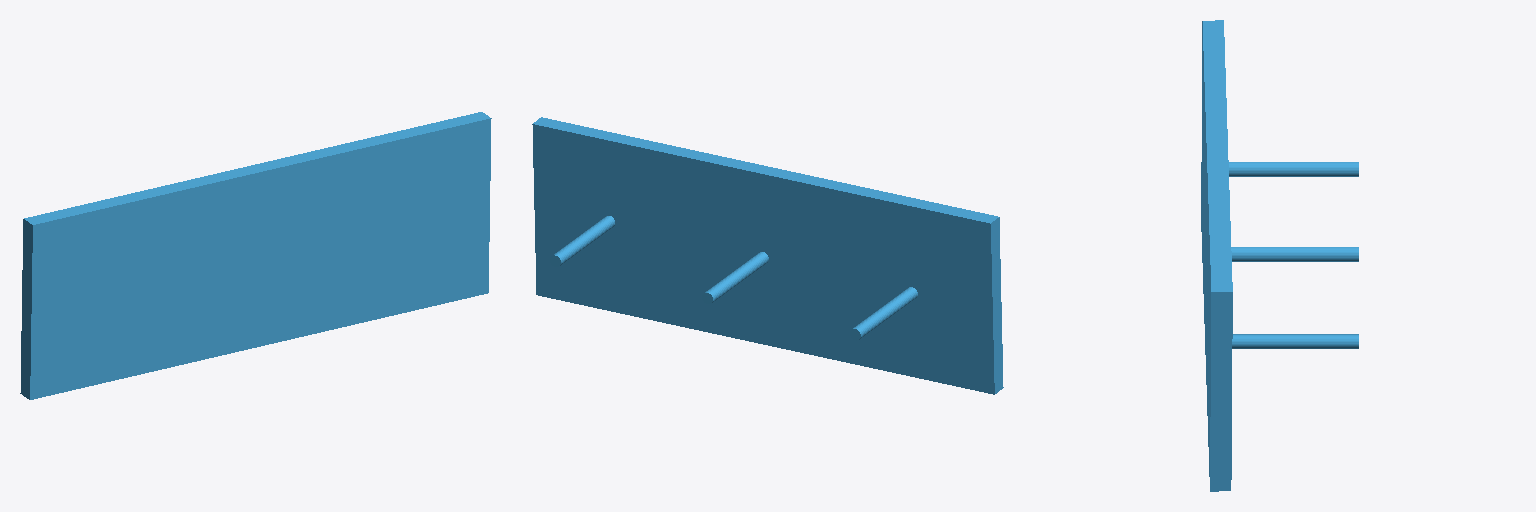
URDF robot description (generated_robot):
<robot name="generated_robot">
    <link name="hanoi_base_base" />
    <link name="hanoi_hanoi_base_base">
        <visual name="door_frame-6">
            <origin xyz="0 0 0 " />
            <geometry>
                <mesh filename="hanoi_base.obj" />
            </geometry>
        </visual>
        <collision>
            <origin xyz="0 0 0 " />
            <geometry>
                <mesh filename="hanoi_base_collision.obj" />
            </geometry>
        </collision>
    </link>    
    <joint name="joint_0" type="fixed">
        <origin xyz="0 0 0" />
        <axis xyz="0 -1 0" />
        <child link="hanoi_base_base" />
        <parent link="hanoi_hanoi_base_base" />
    </joint>
</robot>

--- Facts derived from the render (not from the file) ---
The picture shows the robot from 3 angles, left to right: view 1: azimuth 30°, elevation 25°; view 2: azimuth 150°, elevation 25°; view 3: azimuth 270°, elevation 25°; orthographic projection.
Model generated_robot with 2 links and 1 joints (1 fixed), rooted at hanoi_hanoi_base_base, posed all joints at 0.
Visible links, largest first — view 1: hanoi_hanoi_base_base; view 2: hanoi_hanoi_base_base; view 3: hanoi_hanoi_base_base.
Boxes of the visible links, x1,y1,x2,y2 form: hanoi_hanoi_base_base: (20,112,491,399); hanoi_hanoi_base_base: (532,117,1003,394); hanoi_hanoi_base_base: (1201,20,1358,491).
Size in the robot's own frame: 8.35 by 2.11 by 3.12 metres.
Meshes: 1 distinct files referenced, 1 mesh visuals loaded (1 OBJ).